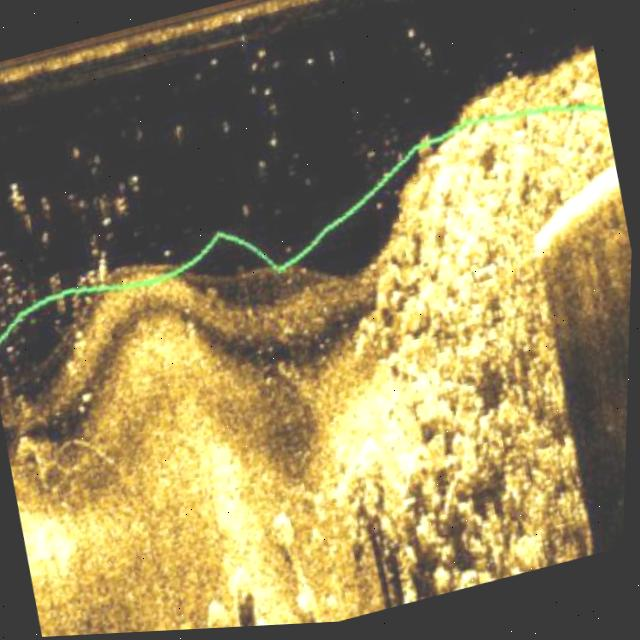bedrock group: (331, 66, 638, 605)
